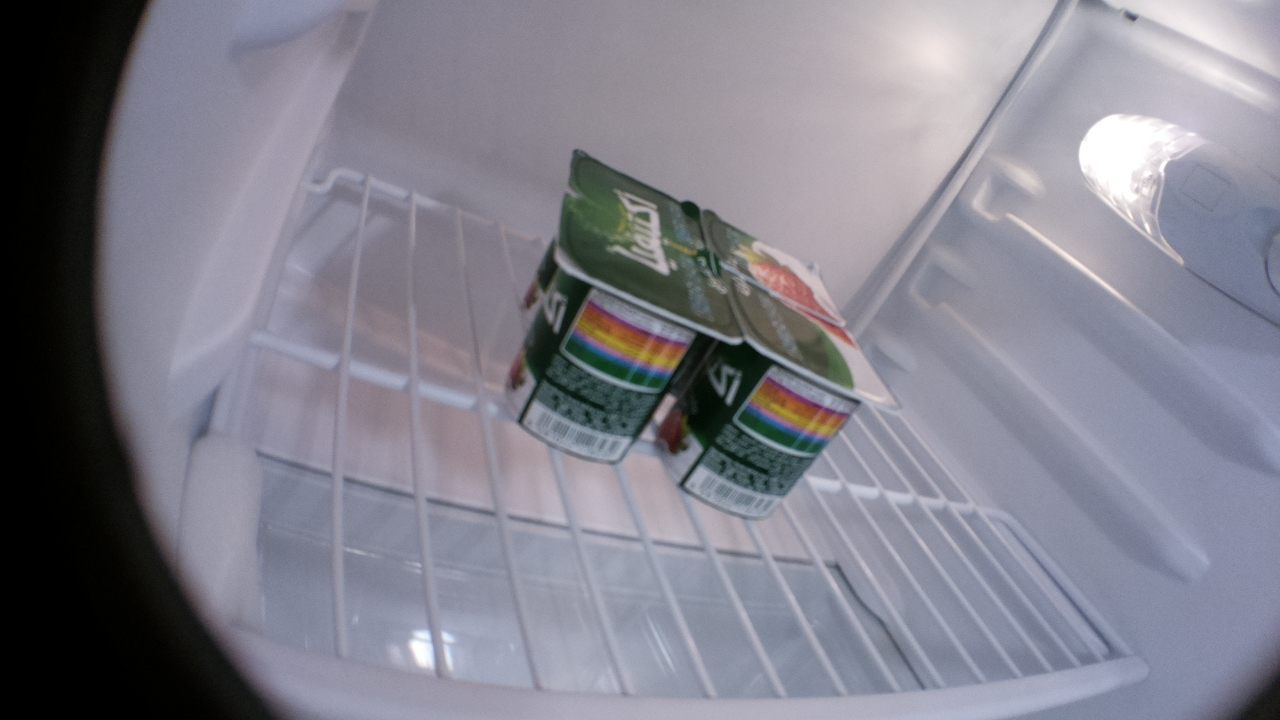yoghurt: (498, 188, 740, 467), (652, 277, 905, 523), (707, 206, 850, 327), (567, 146, 710, 267)
